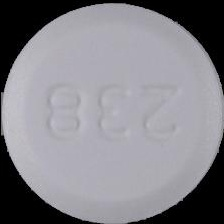51655-054: (0, 0, 224, 224)
